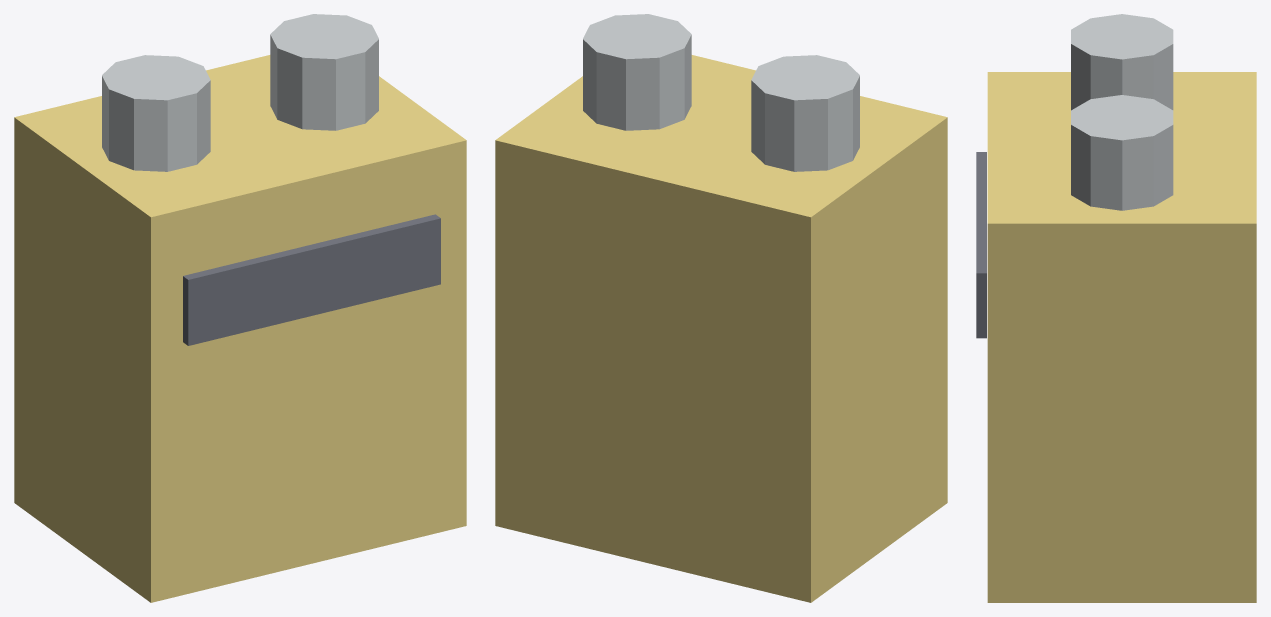
File: objeto_bateria.glb
3 views of the same model, side by side, from view 1: azimuth 30°, elevation 25°; view 2: azimuth 150°, elevation 25°; view 3: azimuth 270°, elevation 25° (orthographic).
Visible parts, largest first — view 1: objeto_bateria; view 2: objeto_bateria; view 3: objeto_bateria.
Boxes of the visible parts, x1=… form: objeto_bateria: x1=14, y1=14, x2=466, y2=602; objeto_bateria: x1=495, y1=14, x2=947, y2=602; objeto_bateria: x1=976, y1=14, x2=1256, y2=602.
Size of the model in its own units: 0.6 by 0.83 by 0.469.
